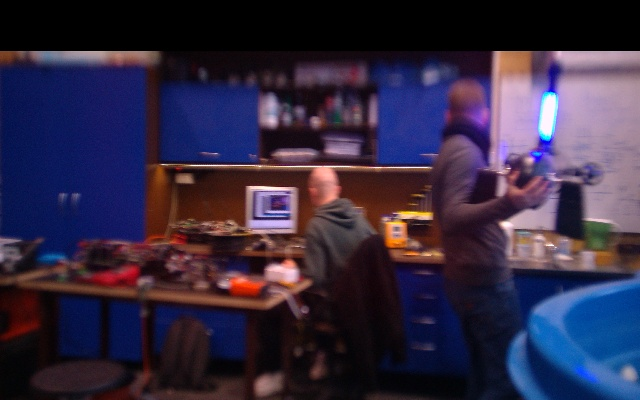blue: (537, 91, 559, 145)
